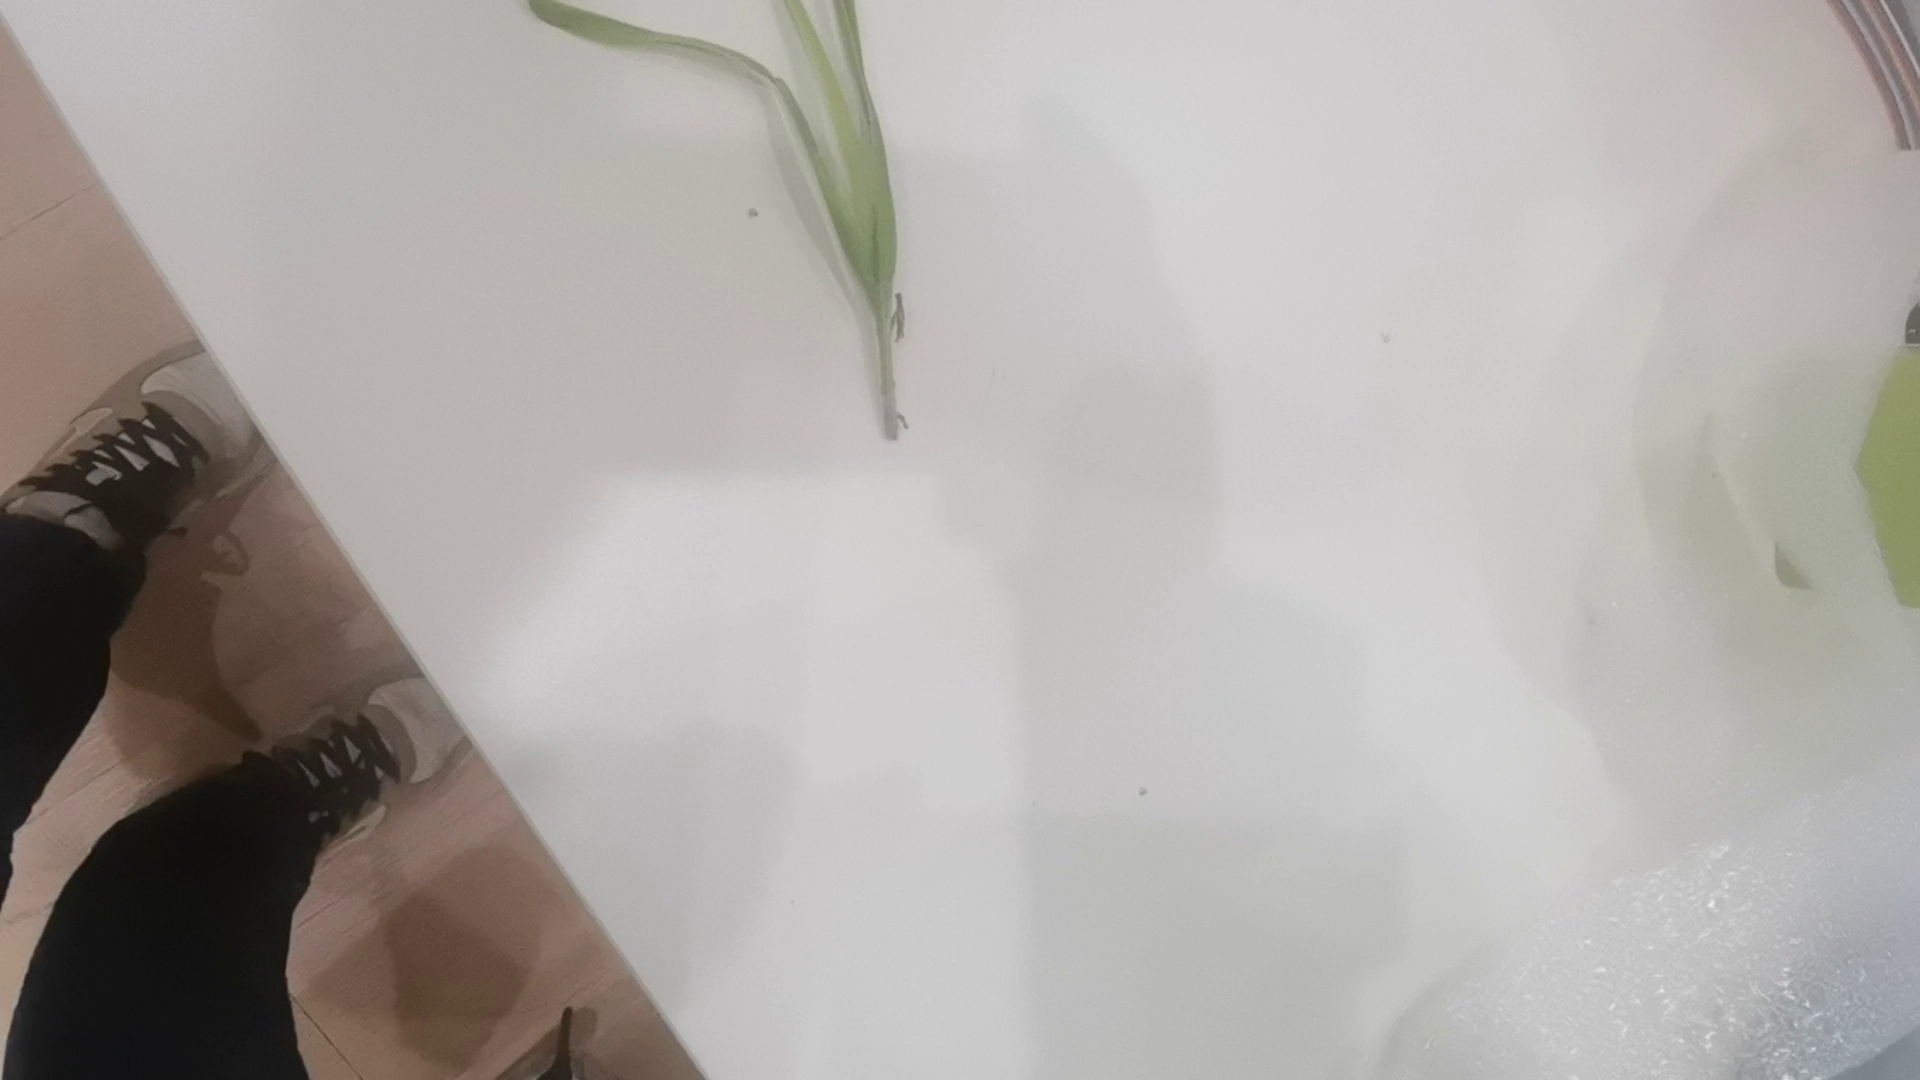chives: (530, 4, 915, 442)
